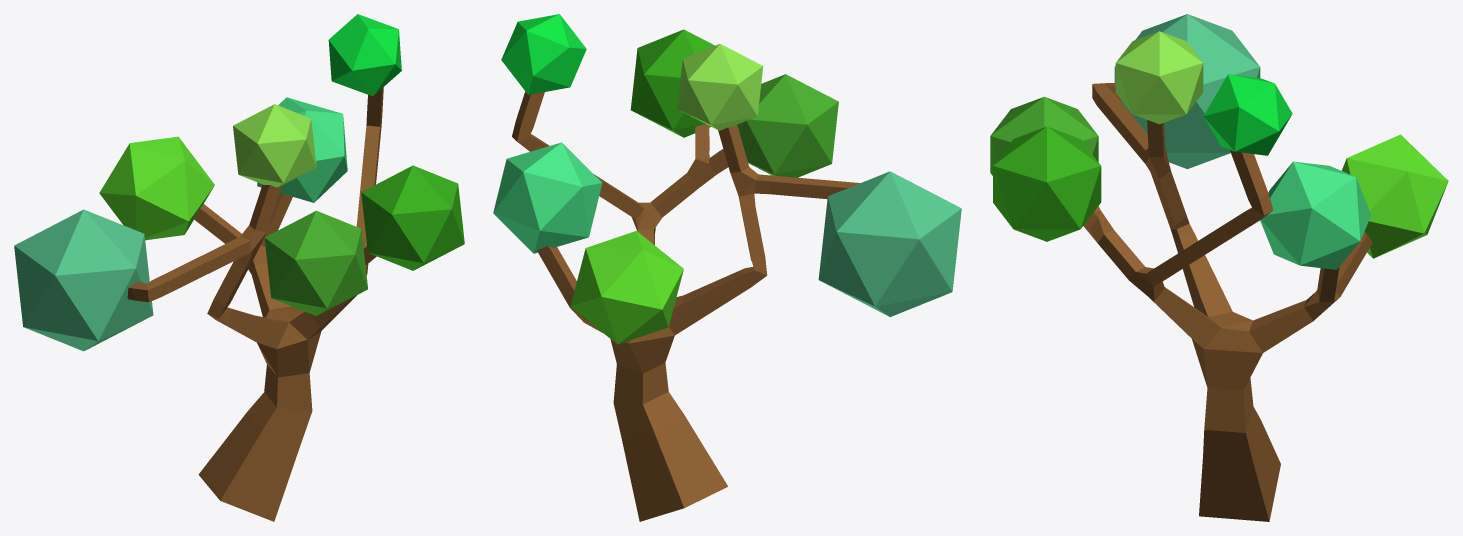
Rendered from tree.fbx.
3 renders of one model, left to right at view 1: azimuth 30°, elevation 25°; view 2: azimuth 150°, elevation 25°; view 3: azimuth 270°, elevation 25°, orthographic. The views are drawn at different scales.
Visible parts, largest first — view 1: Cube, Icosphere.001, Icosphere.004, Icosphere.005, Icosphere, Icosphere.006, Icosphere.003, Icosphere.002; view 2: Cube, Icosphere.001, Icosphere, Icosphere.002, Icosphere.005, Icosphere.006, Icosphere.004, Icosphere.003; view 3: Cube, Icosphere.004, Icosphere.002, Icosphere, Icosphere.001, Icosphere.006, Icosphere.003, Icosphere.005.
Boxes of the visible parts, x1,y1,x2,y2 form: Cube: [127, 87, 383, 521]; Icosphere.001: [14, 209, 153, 351]; Icosphere.004: [361, 165, 464, 270]; Icosphere.005: [264, 210, 367, 316]; Icosphere: [99, 136, 214, 240]; Icosphere.006: [233, 104, 316, 187]; Icosphere.003: [328, 14, 401, 96]; Icosphere.002: [257, 97, 347, 202]; Cube: [512, 91, 860, 521]; Icosphere.001: [818, 171, 961, 316]; Icosphere: [570, 231, 683, 344]; Icosphere.002: [493, 142, 602, 253]; Icosphere.005: [737, 74, 838, 177]; Icosphere.006: [677, 44, 763, 130]; Icosphere.004: [630, 29, 714, 137]; Icosphere.003: [501, 14, 586, 94]; Cube: [1083, 83, 1372, 521]; Icosphere.004: [993, 126, 1101, 241]; Icosphere.002: [1260, 161, 1371, 269]; Icosphere: [1341, 134, 1448, 258]; Icosphere.001: [1114, 14, 1260, 168]; Icosphere.006: [1115, 31, 1203, 124]; Icosphere.003: [1203, 74, 1292, 155]; Icosphere.005: [990, 96, 1098, 175].
Size of the model in its own units: 794 by 865 by 720.
